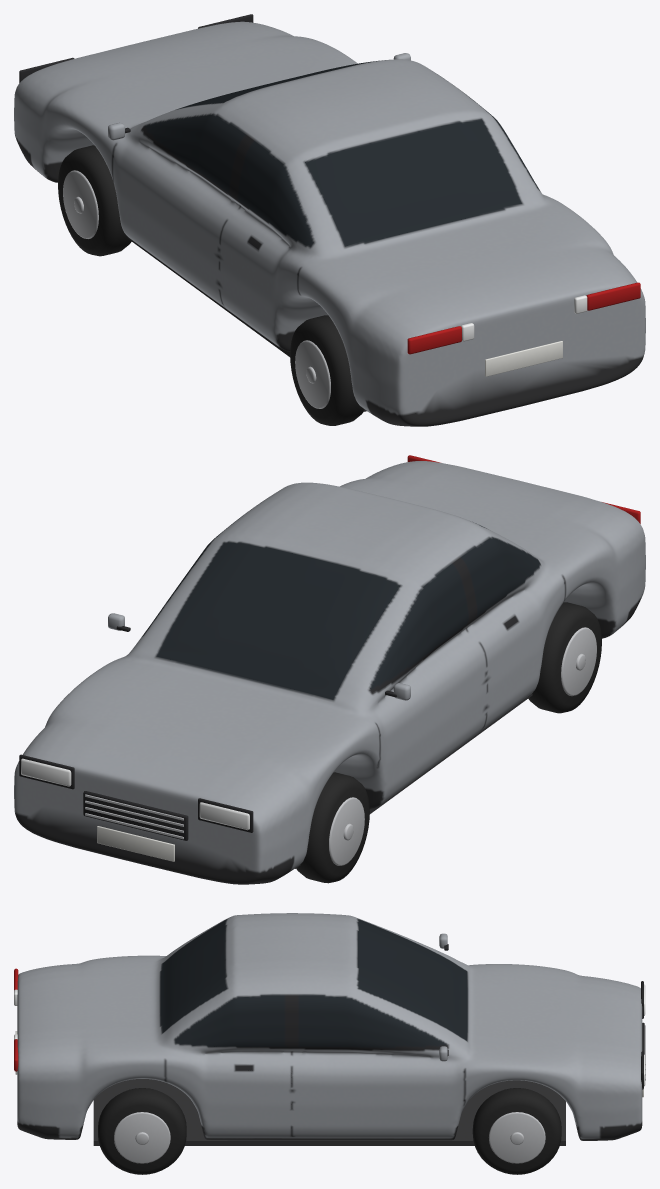
Rendered from SM_Sedan.fbx.
The picture shows the model from 3 angles, top to bottom: view 1: azimuth 30°, elevation 25°; view 2: azimuth 150°, elevation 25°; view 3: azimuth 270°, elevation 25°; orthographic projection. The views are drawn at different scales.
Parts seen in each view (by area): view 1: SM_Sedan; view 2: SM_Sedan; view 3: SM_Sedan.
Part boxes in pixels (x1,y1,x2,y2): SM_Sedan: (14,14,645,426); SM_Sedan: (14,455,645,884); SM_Sedan: (14,913,645,1174).
Bounding box in the file's own units: 2.02 × 1.45 × 4.55.
Materials: 1 (1 with a texture image).
